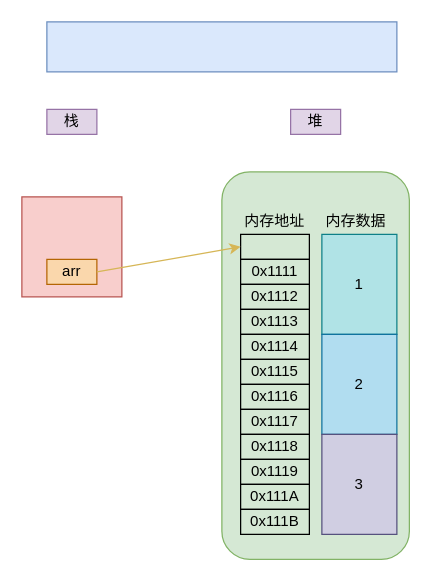
The diagram is 431 pixels wide and 581 high, and some of its shapes have lost their labels. The shapes that lost their labels are listed below. From the top down, each one's box as (x1, y1, x2, y2) in pixels, then its label:
(46, 21, 397, 72): 数据：int arr[3] = {1, 2, 3}
(239, 233, 309, 259): 0x1110
